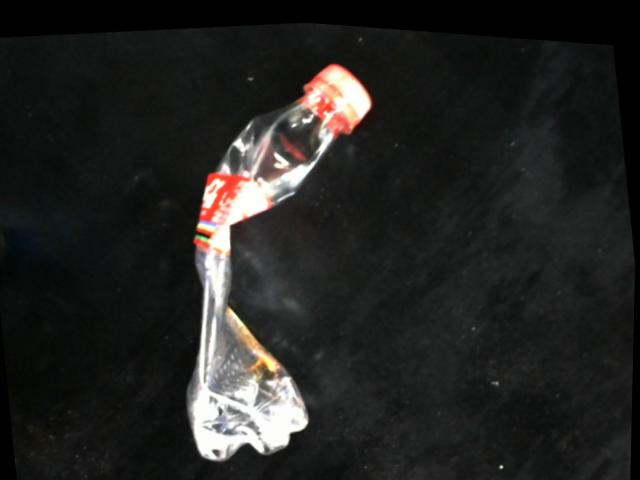bottle: (187, 51, 378, 460)
